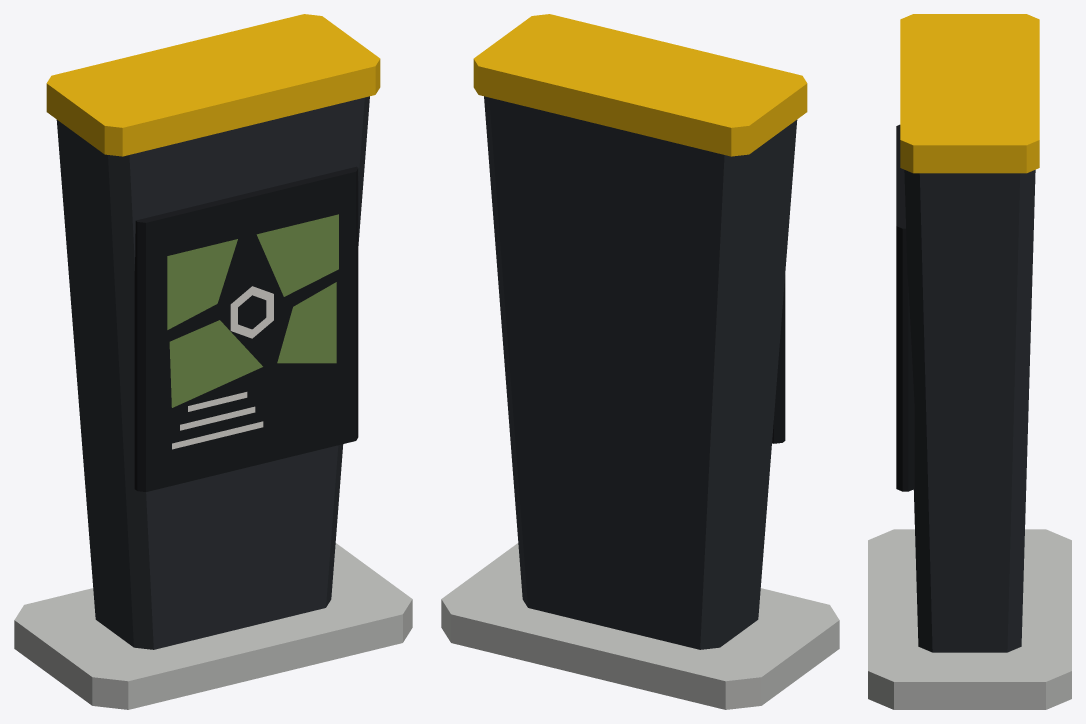
File: PROP_INFO_KIOSK_01.glb
3 renders of one model, left to right at view 1: azimuth 30°, elevation 25°; view 2: azimuth 150°, elevation 25°; view 3: azimuth 270°, elevation 25°, orthographic. The views are drawn at different scales.
Parts seen in each view (by area): view 1: CIVRUM_GAME_PROP_INFO_KIOSK_01; view 2: CIVRUM_GAME_PROP_INFO_KIOSK_01; view 3: CIVRUM_GAME_PROP_INFO_KIOSK_01.
Boxes of the visible parts, box(x1,y1,x2,y2) form: CIVRUM_GAME_PROP_INFO_KIOSK_01: box(14, 14, 412, 709); CIVRUM_GAME_PROP_INFO_KIOSK_01: box(441, 14, 839, 709); CIVRUM_GAME_PROP_INFO_KIOSK_01: box(868, 14, 1071, 709).
Bounding box in the file's own units: 1.4 × 2.37 × 0.79.
